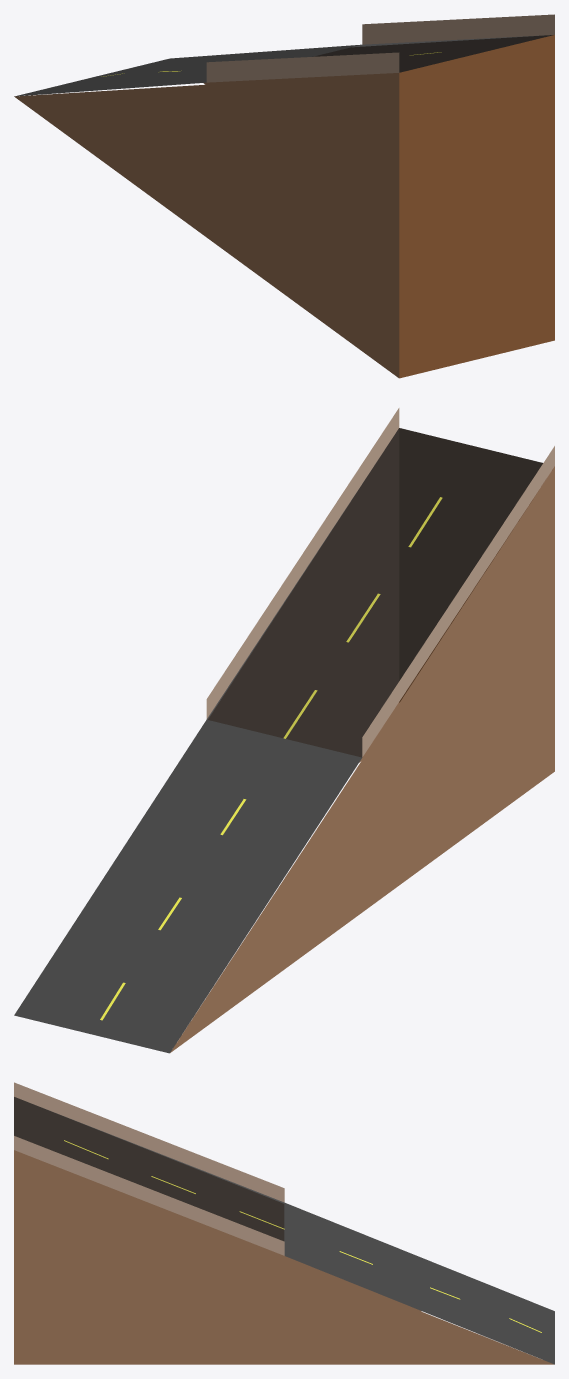
The model's file is sram.obj.
3 views of the same model, one above another, from view 1: azimuth 30°, elevation 25°; view 2: azimuth 150°, elevation 25°; view 3: azimuth 270°, elevation 25° (orthographic). The views are drawn at different scales.
Size of the model in its own units: 240 by 480 by 1028.
